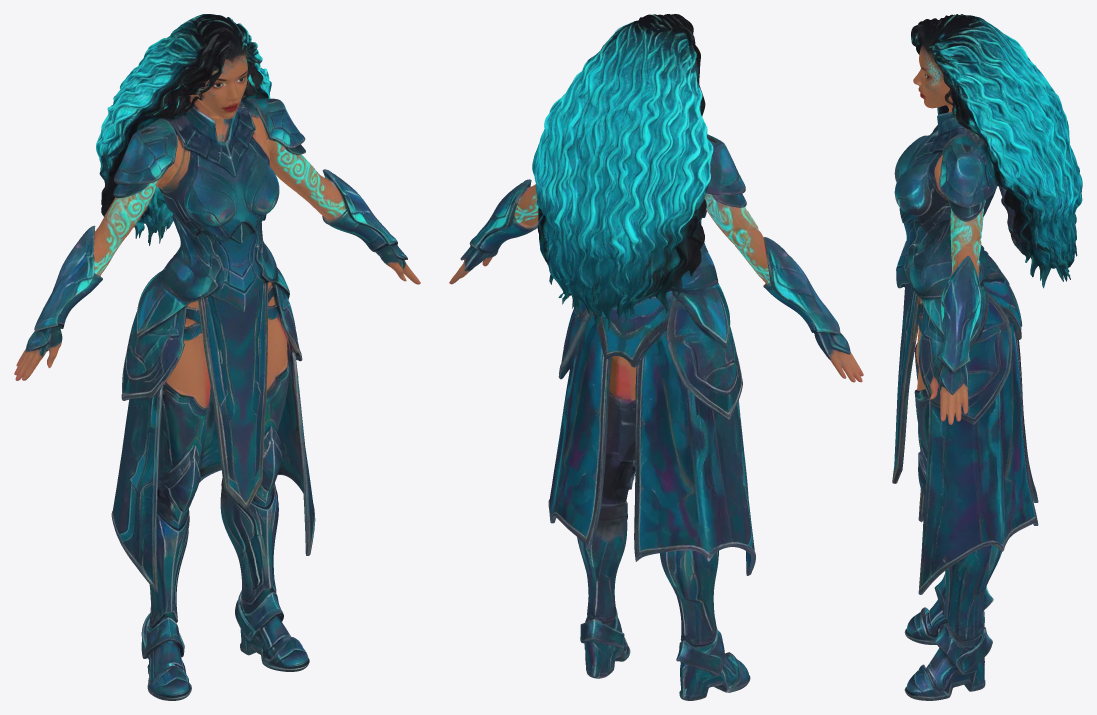
Rendered from oceanus.glb.
The picture shows the model from 3 angles, left to right: view 1: azimuth 30°, elevation 25°; view 2: azimuth 150°, elevation 25°; view 3: azimuth 270°, elevation 25°; orthographic projection. The views are drawn at different scales.
Size of the model in its own units: 1.23 by 1.9 by 0.5053.
Materials: 1 (1 with a texture image).
